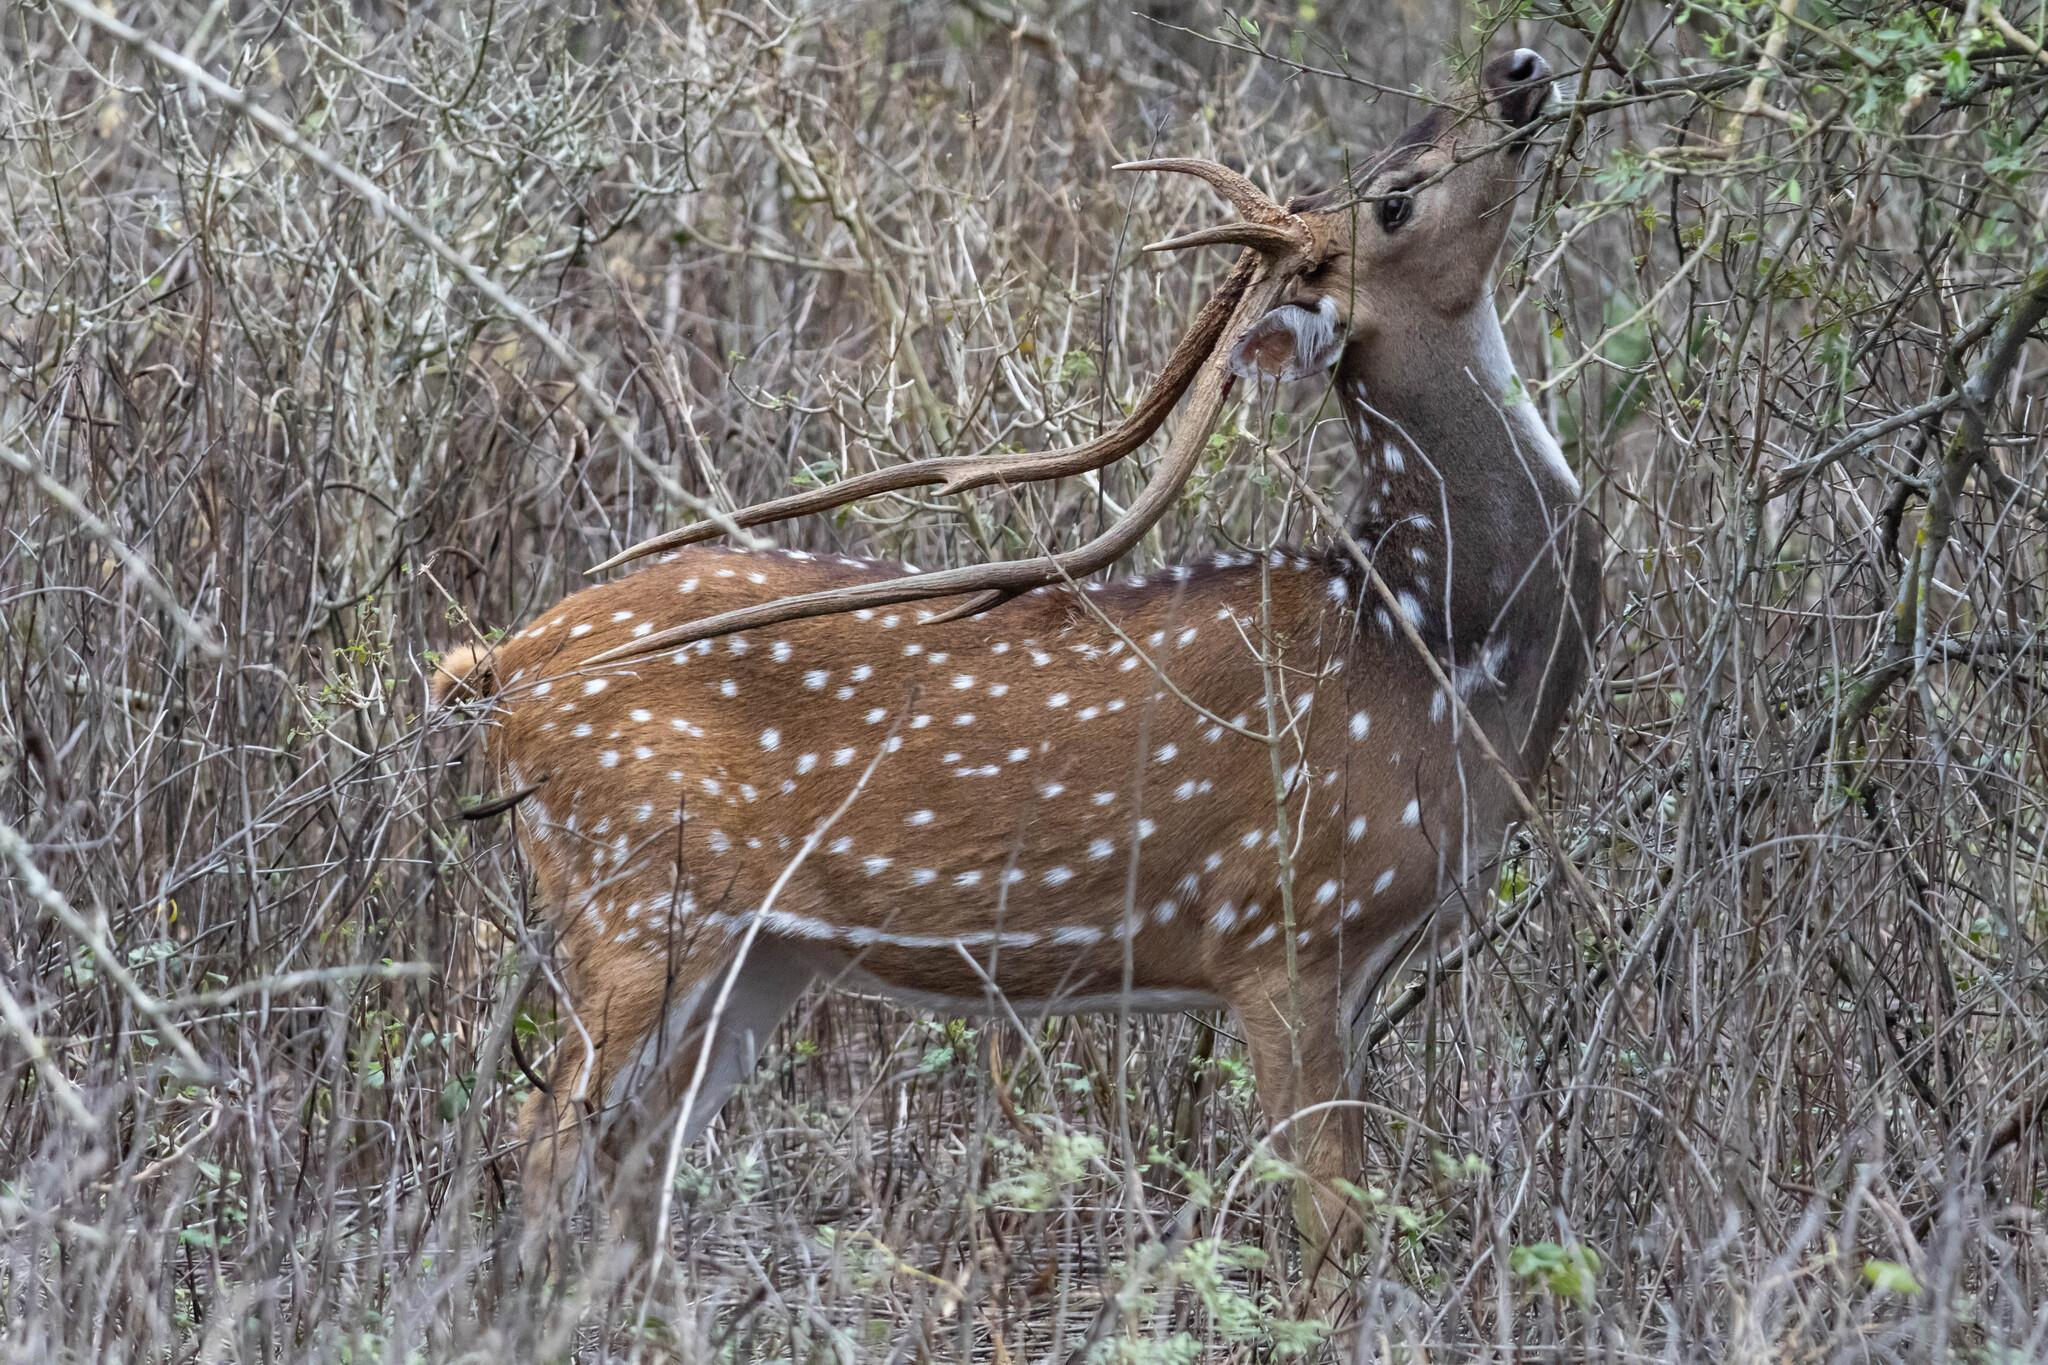Deer: (483, 49, 1599, 1245)
